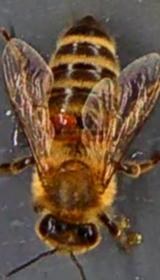varroa_mite: (44, 110, 82, 132)
